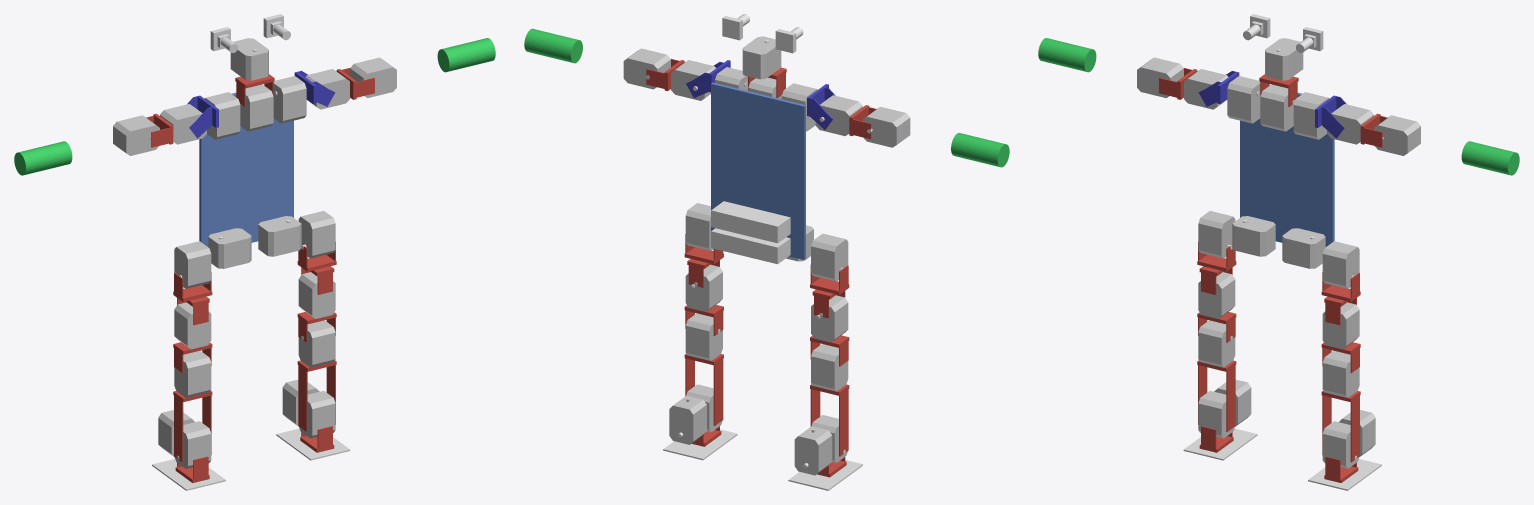
Rendered from full_robot_mx28(v4).dae.
3 views of the same model, side by side, from view 1: azimuth 30°, elevation 25°; view 2: azimuth 150°, elevation 25°; view 3: azimuth 330°, elevation 25° (orthographic).
Parts seen in each view (by area): view 1: Central, left_leg_servo1, right_leg_servo1, right_leg_servo2, left_leg_servo2, left_leg_servo4, right_leg_servo4, left_arm_servo1, right_arm_servo3, left_hand, right_hand, head_servo2 (+22 smaller); view 2: Central, battery2, battery1, right_leg_servo5, left_leg_servo5, right_leg_servo2, left_leg_servo4, right_arm_servo3, right_leg_servo4, left_hand, right_hand, head_servo2 (+20 smaller); view 3: Central, right_leg_servo1, left_leg_servo1, left_leg_servo2, right_leg_servo2, right_leg_servo4, left_leg_servo4, right_arm_servo1, left_arm_servo3, left_hand, right_hand, head_servo2 (+22 smaller).
Part boxes in pixels (box(x1,y1,x2,y2)): Central: box(199, 92, 293, 246); left_leg_servo1: box(258, 216, 301, 256); right_leg_servo1: box(208, 228, 251, 268); right_leg_servo2: box(174, 241, 211, 288); left_leg_servo2: box(298, 211, 335, 258); left_leg_servo4: box(298, 320, 335, 367); right_leg_servo4: box(174, 350, 211, 397); left_arm_servo1: box(273, 76, 306, 123); right_arm_servo3: box(113, 115, 159, 155); left_hand: box(437, 38, 495, 72); right_hand: box(14, 141, 72, 175); head_servo2: box(230, 38, 268, 80); Central: box(711, 82, 805, 259); battery2: box(711, 201, 790, 243); battery1: box(711, 228, 790, 264); right_leg_servo5: box(794, 426, 832, 475); left_leg_servo5: box(669, 395, 706, 444); right_leg_servo2: box(811, 233, 848, 281); left_leg_servo4: box(685, 313, 722, 360); right_arm_servo3: box(863, 106, 910, 147); right_leg_servo4: box(811, 344, 848, 391); left_hand: box(524, 28, 582, 63); right_hand: box(951, 133, 1009, 167); head_servo2: box(742, 36, 781, 79); Central: box(1240, 92, 1334, 246); right_leg_servo1: box(1232, 216, 1275, 256); left_leg_servo1: box(1282, 228, 1325, 268); left_leg_servo2: box(1322, 241, 1359, 288); right_leg_servo2: box(1198, 211, 1235, 258); right_leg_servo4: box(1198, 320, 1235, 367); left_leg_servo4: box(1322, 350, 1359, 397); right_arm_servo1: box(1227, 76, 1260, 123); left_arm_servo3: box(1374, 115, 1420, 155); left_hand: box(1461, 141, 1519, 175); right_hand: box(1038, 38, 1096, 72); head_servo2: box(1265, 38, 1303, 80).
Size of the model in its own units: 7.1 by 0.996 by 6.24.
